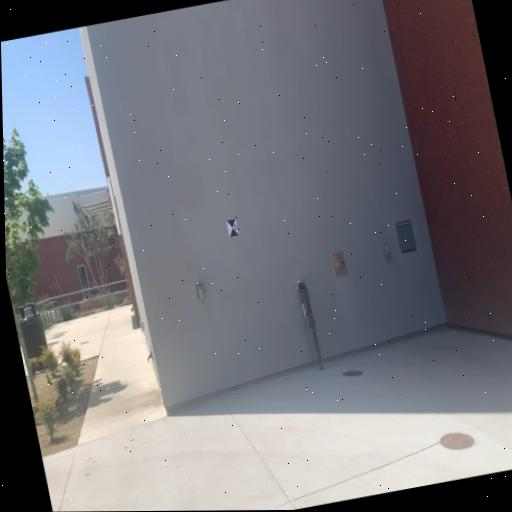target5: (226, 217, 239, 238)
